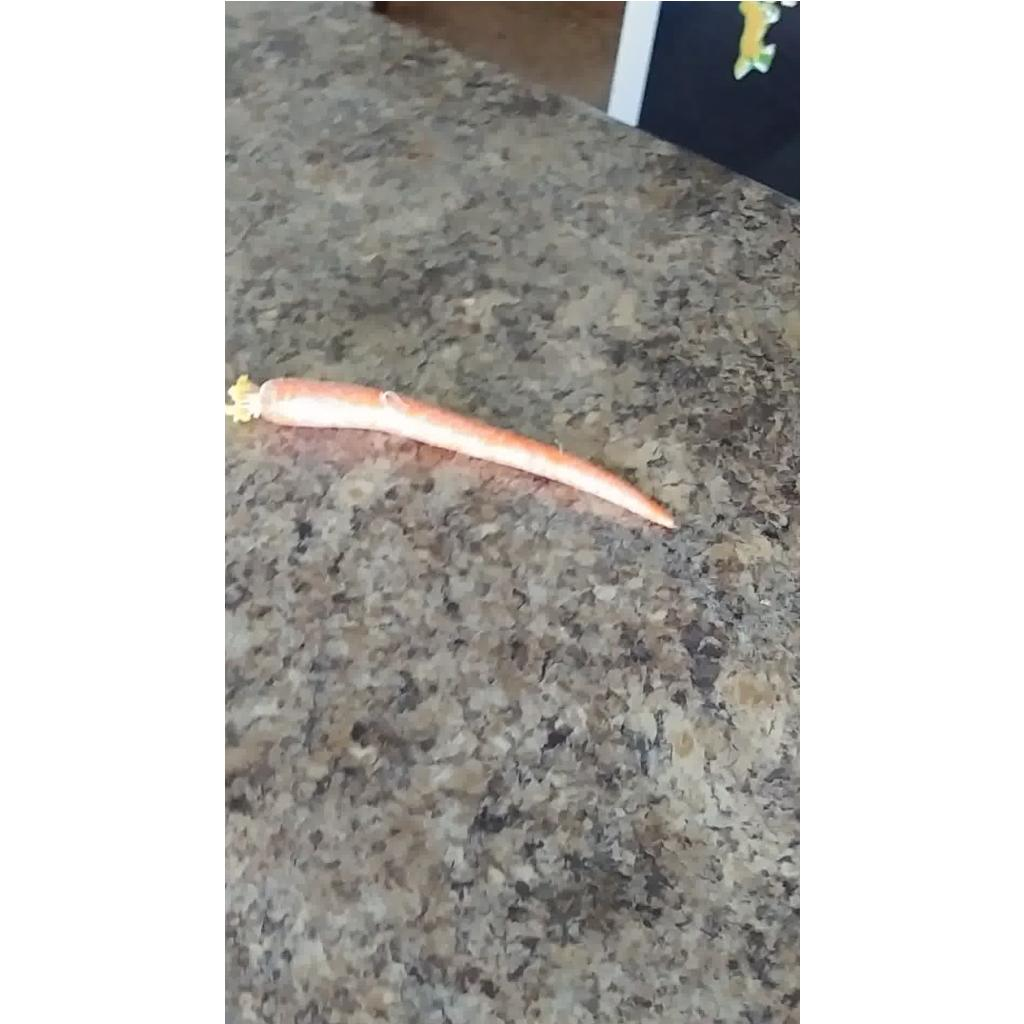carrot: (224, 374, 678, 528)
